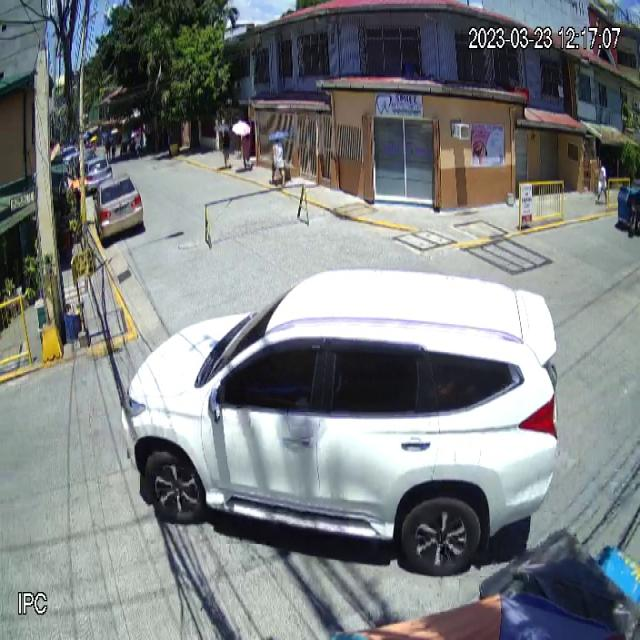Car: (121, 268, 558, 578)
